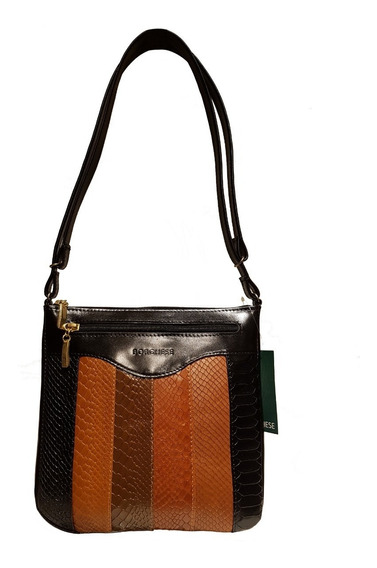cartera: (33, 27, 266, 535)
